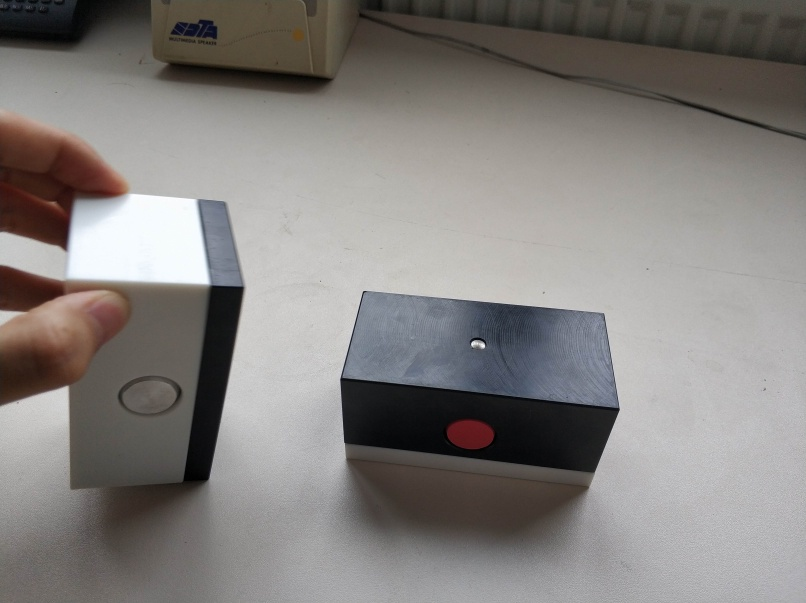black+white+silver: (65, 191, 248, 495)
white+black+red: (337, 289, 623, 491)
